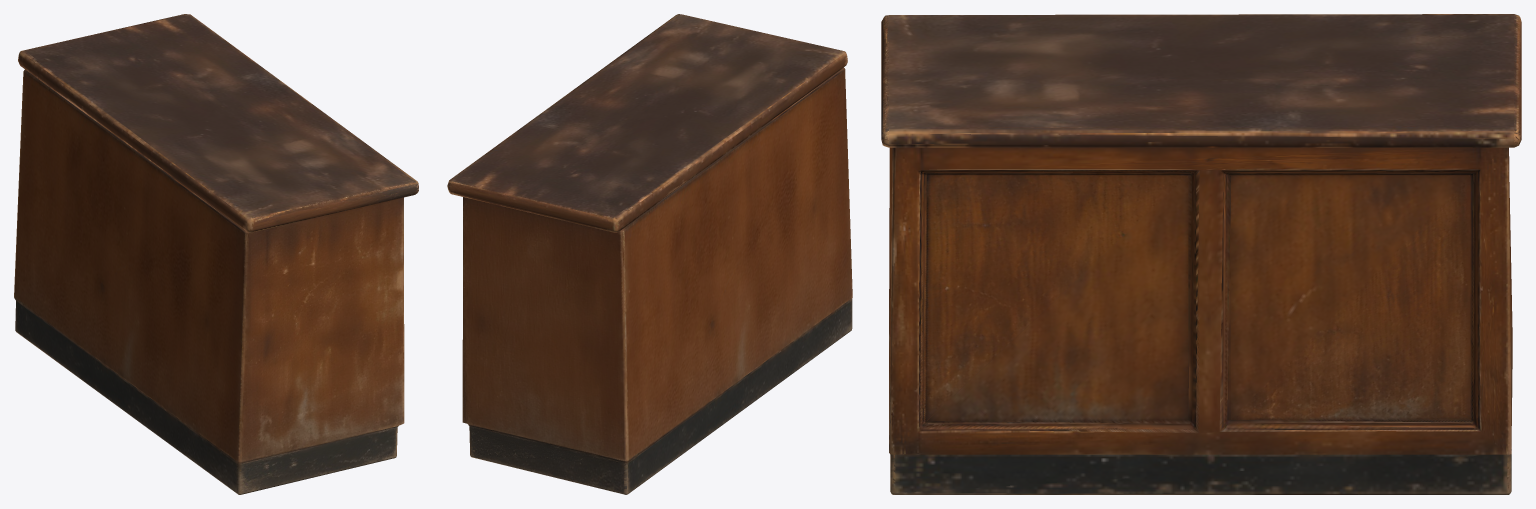
File: shop-counter.glb
3 views of the same model, side by side, from view 1: azimuth 30°, elevation 25°; view 2: azimuth 150°, elevation 25°; view 3: azimuth 270°, elevation 25° (orthographic). The views are drawn at different scales.
Visible parts, largest first — view 1: tripo_node_62a19957-80e7-470d-a159-a5f46182c3ea; view 2: tripo_node_62a19957-80e7-470d-a159-a5f46182c3ea; view 3: tripo_node_62a19957-80e7-470d-a159-a5f46182c3ea.
Boxes of the visible parts, left/top/right/bottom form: tripo_node_62a19957-80e7-470d-a159-a5f46182c3ea: left=14, top=14, right=418, bottom=494; tripo_node_62a19957-80e7-470d-a159-a5f46182c3ea: left=447, top=14, right=852, bottom=494; tripo_node_62a19957-80e7-470d-a159-a5f46182c3ea: left=881, top=14, right=1521, bottom=494.
Size of the model in its own units: 0.4434 by 0.6582 by 0.998.
Materials: 1 (1 with a texture image).
